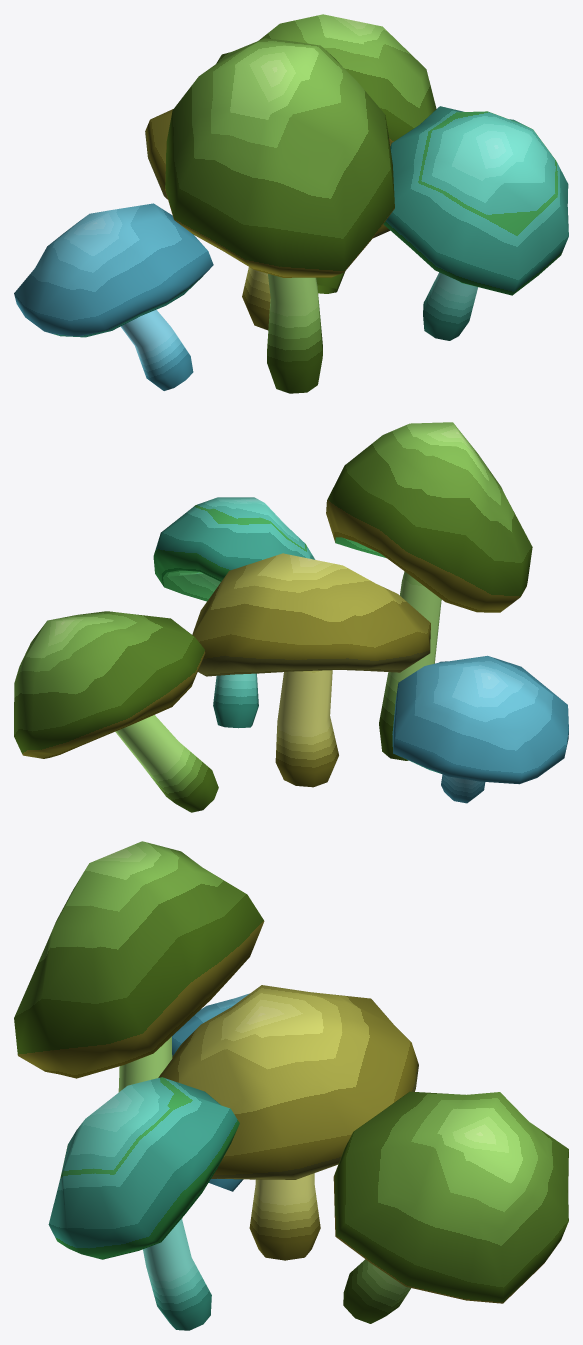
The model's file is SM_mushroomLarge.fbx.
3 renders of one model, top to bottom at view 1: azimuth 30°, elevation 25°; view 2: azimuth 150°, elevation 25°; view 3: azimuth 270°, elevation 25°, orthographic. The views are drawn at different scales.
Visible parts, largest first — view 1: SM_mushroomLarge; view 2: SM_mushroomLarge; view 3: SM_mushroomLarge.
Part boxes in pixels (x1,y1,x2,y2): SM_mushroomLarge: (14,14,568,393); SM_mushroomLarge: (14,422,568,812); SM_mushroomLarge: (14,841,568,1330).
Bounding box in the file's own units: 149 × 106 × 139.
1 material, 1 textured.
